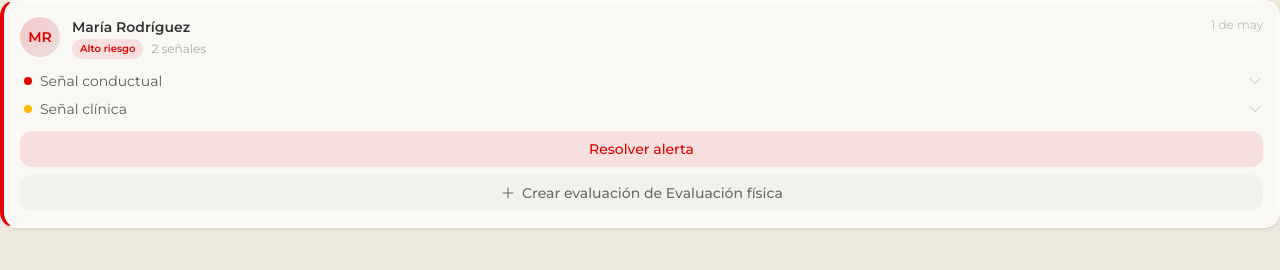
Test: AlertCard › clicking a signal button toggles the expanded detail
Expected: the text "El cliente no ha completado más del 50% de los entrenamientos." is not shown
Click the button "Señal conductual".
click(101, 81)  # box 24,71 -> 1263,91
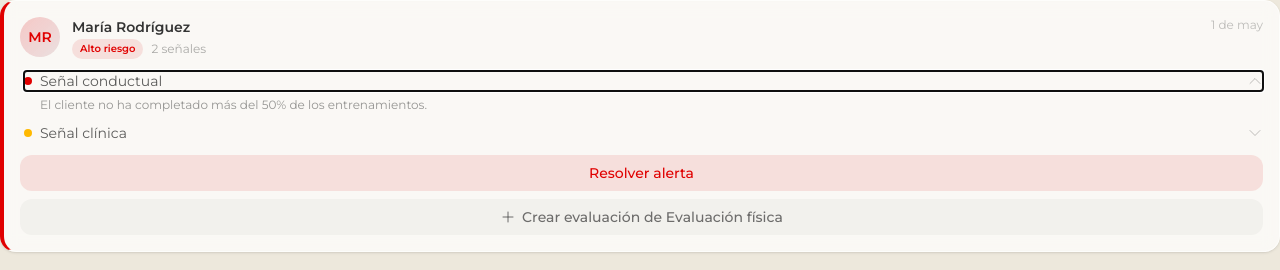
Result: the text "El cliente no ha completado más del 50% de los entrenamientos." is shown at 40,97 -> 427,112
Click the button "Señal conductual".
click(101, 81)  # box 24,71 -> 1263,91
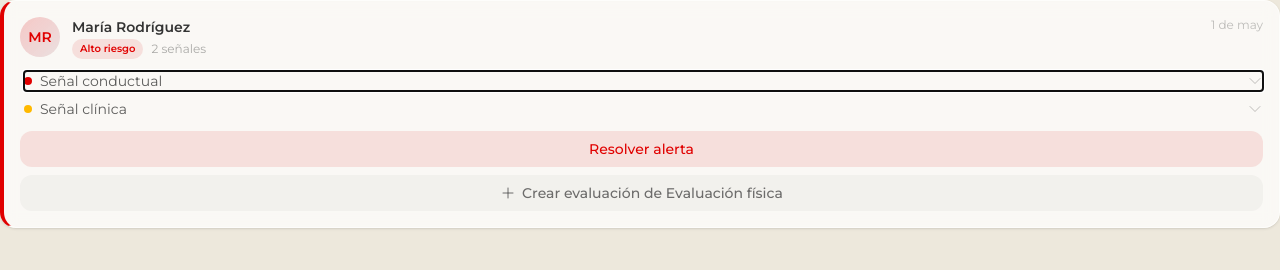
Result: the text "El cliente no ha completado más del 50% de los entrenamientos." is gone
